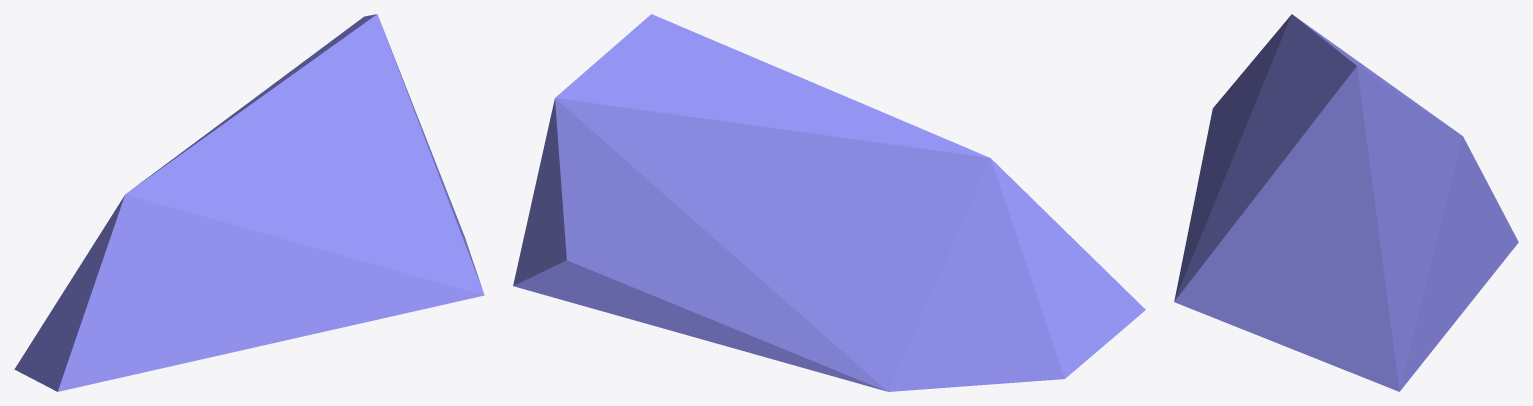
File: Rock_12_Collider_01.FBX
The picture shows the model from 3 angles, left to right: view 1: azimuth 30°, elevation 25°; view 2: azimuth 150°, elevation 25°; view 3: azimuth 270°, elevation 25°; orthographic projection. The views are drawn at different scales.
Visible parts, largest first — view 1: COLLIDER1; view 2: COLLIDER1; view 3: COLLIDER1.
Boxes of the visible parts, x1,y1,x2,y2 form: COLLIDER1: (14,14,484,391); COLLIDER1: (513,14,1145,391); COLLIDER1: (1174,14,1518,391).
Bounding box in the file's own units: 40 × 20.29 × 23.33.
